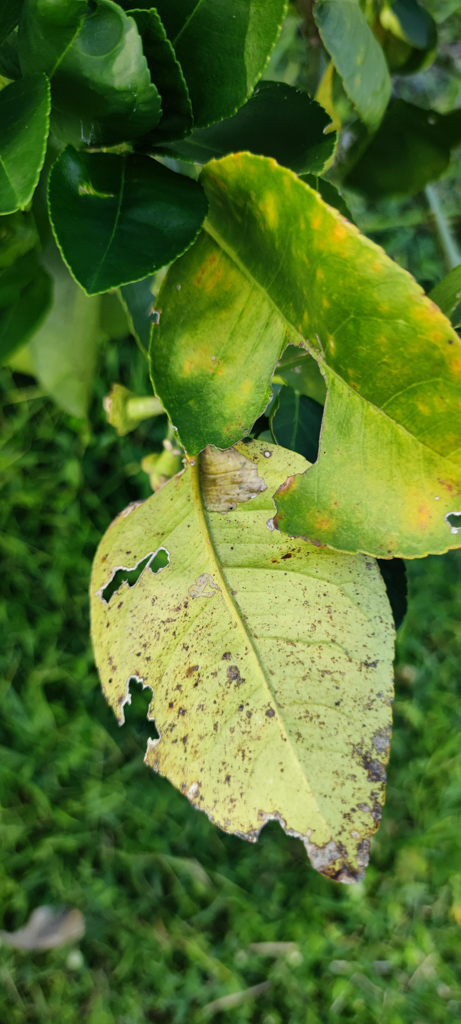Canker: (165, 631, 282, 738), (405, 458, 457, 531), (342, 719, 388, 792), (181, 250, 238, 300), (253, 537, 316, 574), (331, 637, 382, 680)
Pepper yellow leaf: (69, 442, 409, 892), (169, 157, 456, 564)
